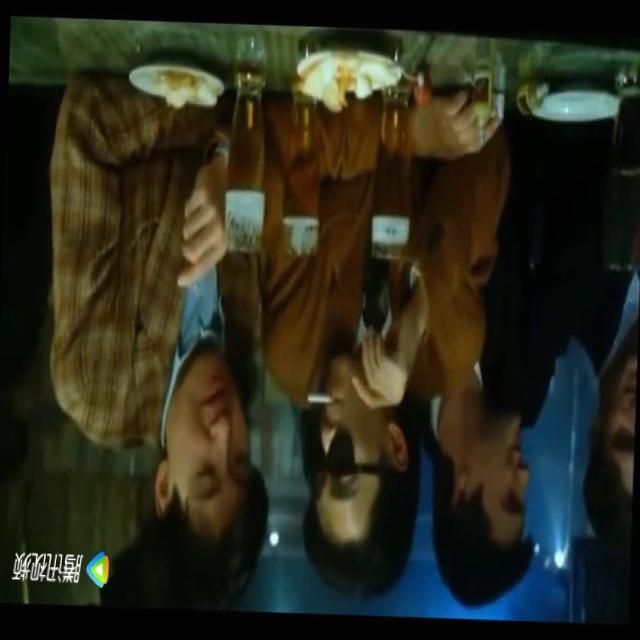cigarette: (306, 385, 334, 408)
